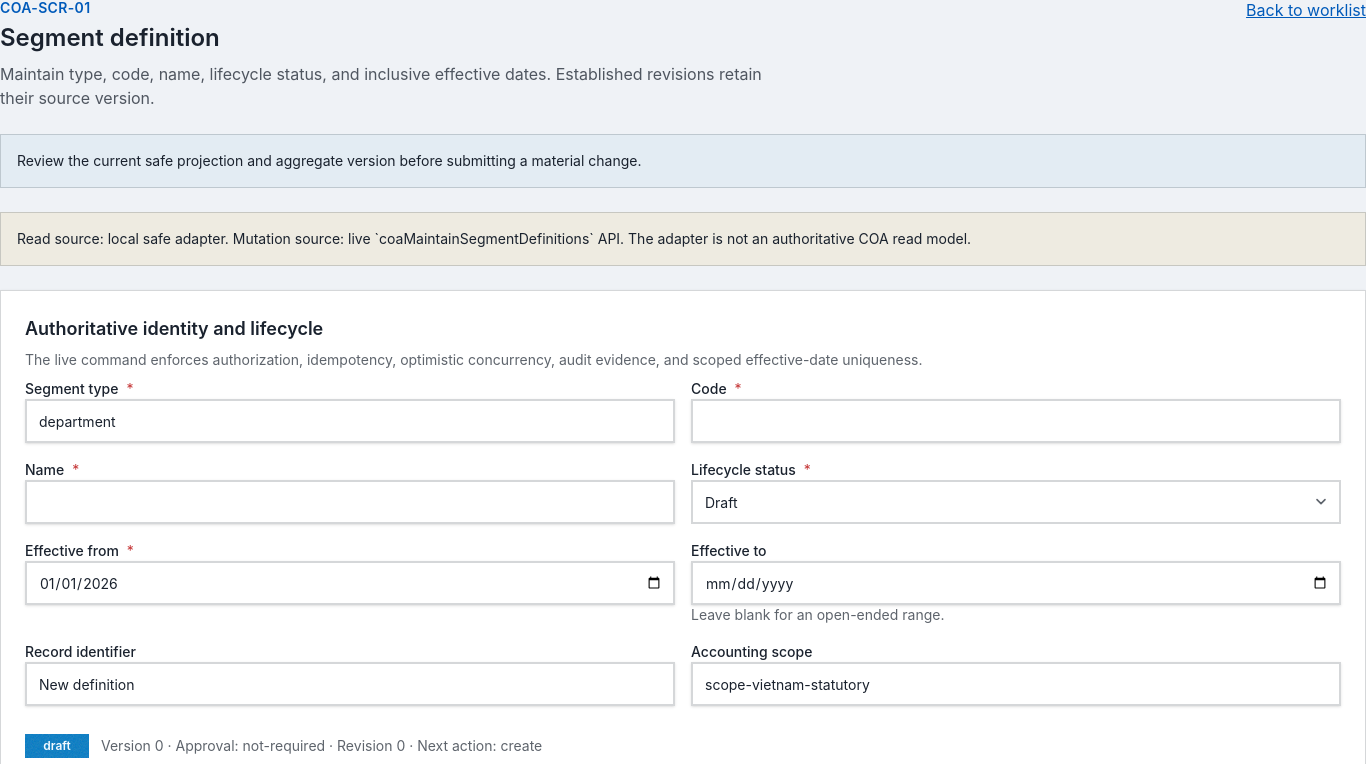
Test: COA segment workspace › submits the live mutation and refreshes the safe adapter from its projection
Type "D-900" into the field labelled "Code" at (1016, 421), box [691,399,1341,443]
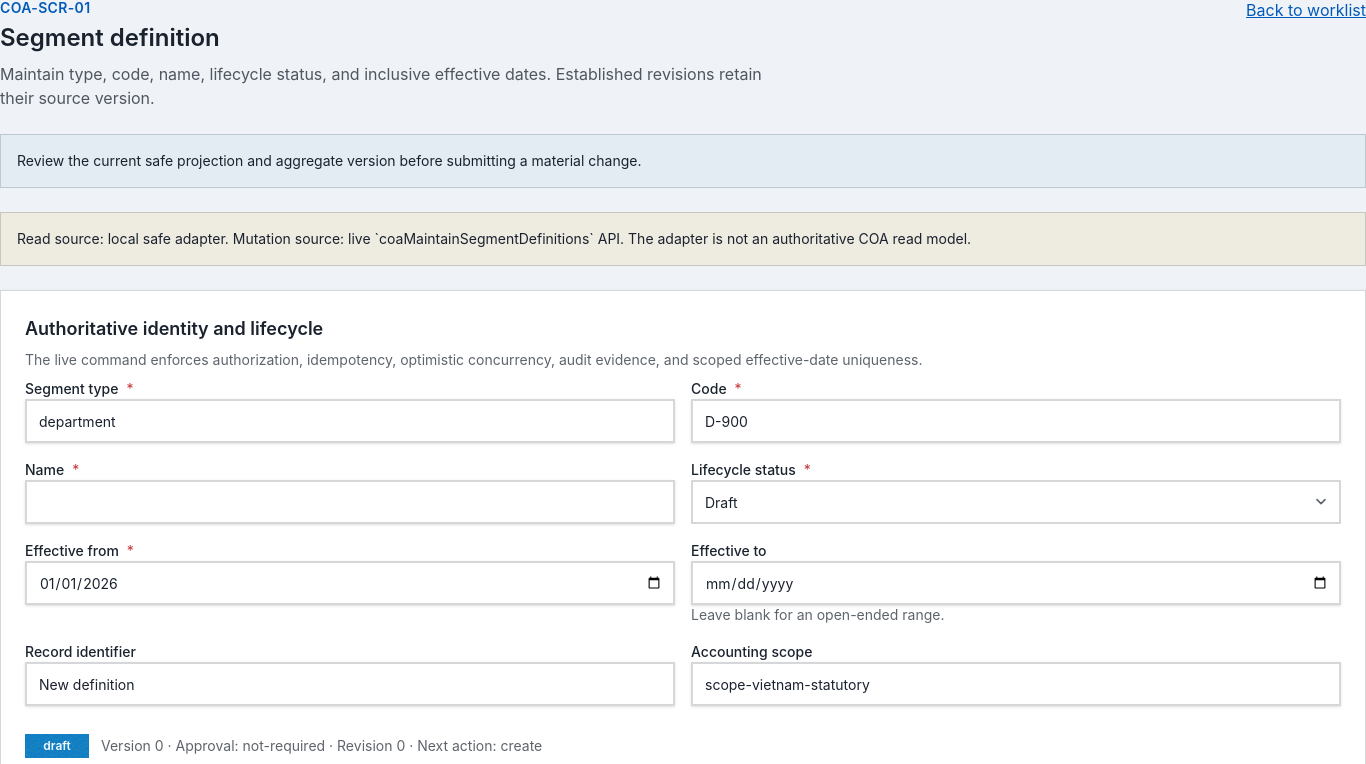
Type "Finance" into the field labelled "Name" at (350, 502), box [25,480,675,524]
(page scrolled)
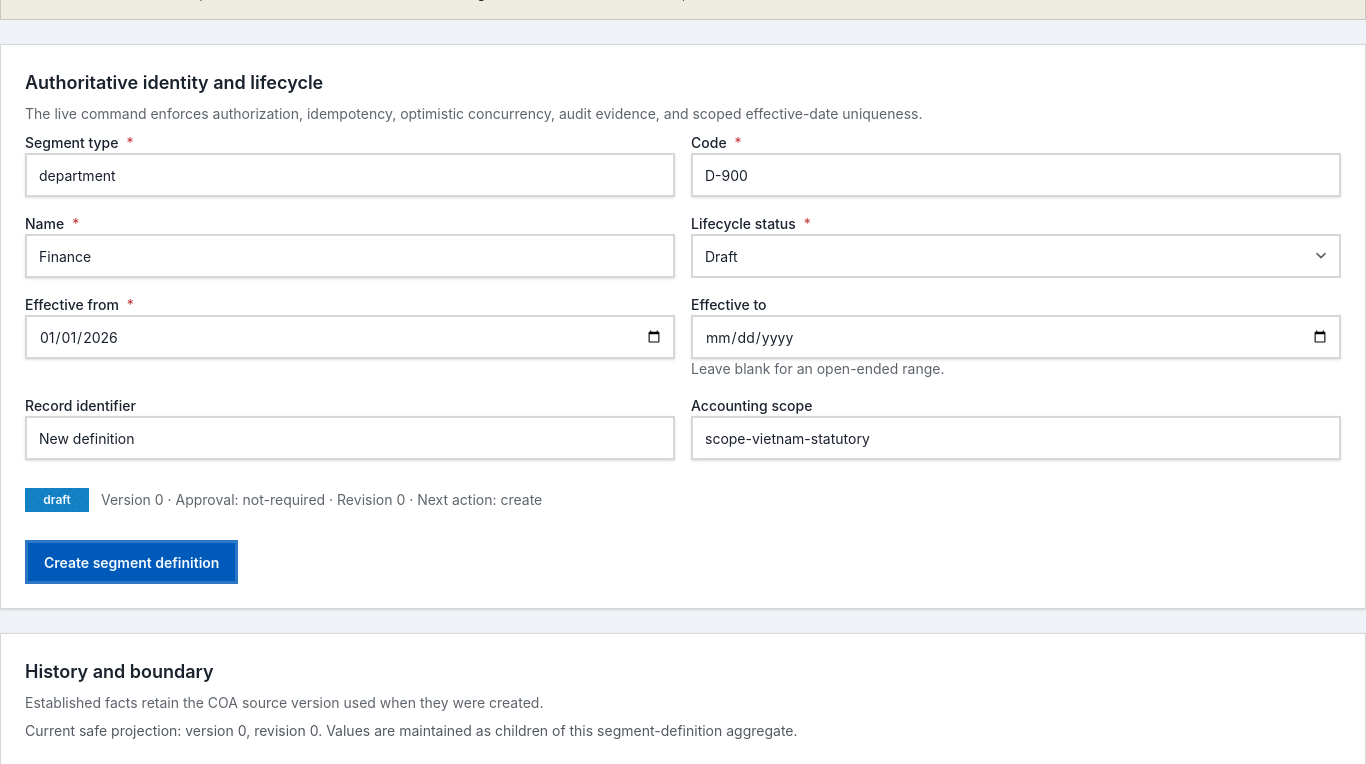
Click the button "Create segment definition" at (132, 562), box [25,540,238,584]
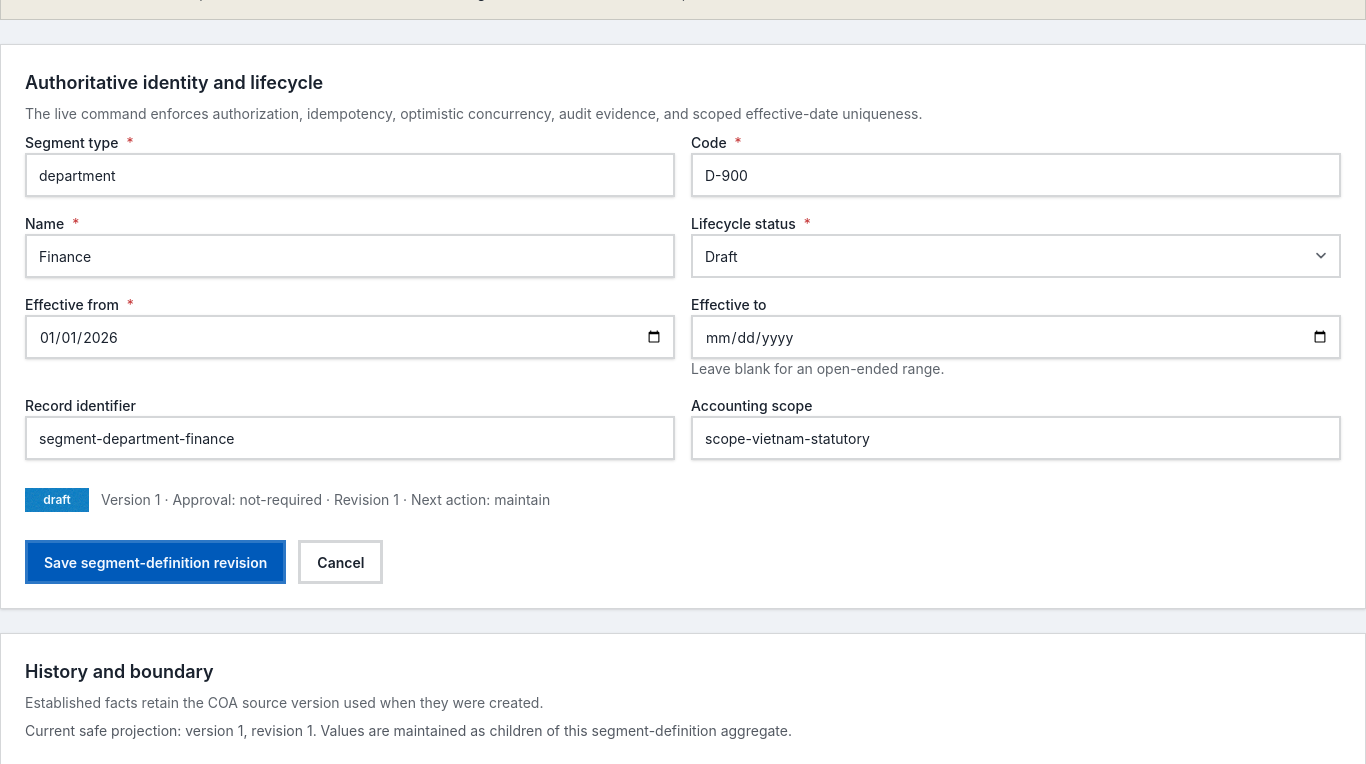
Now the field showing "segment-department-finance" is shown, box [25,416,675,460]
